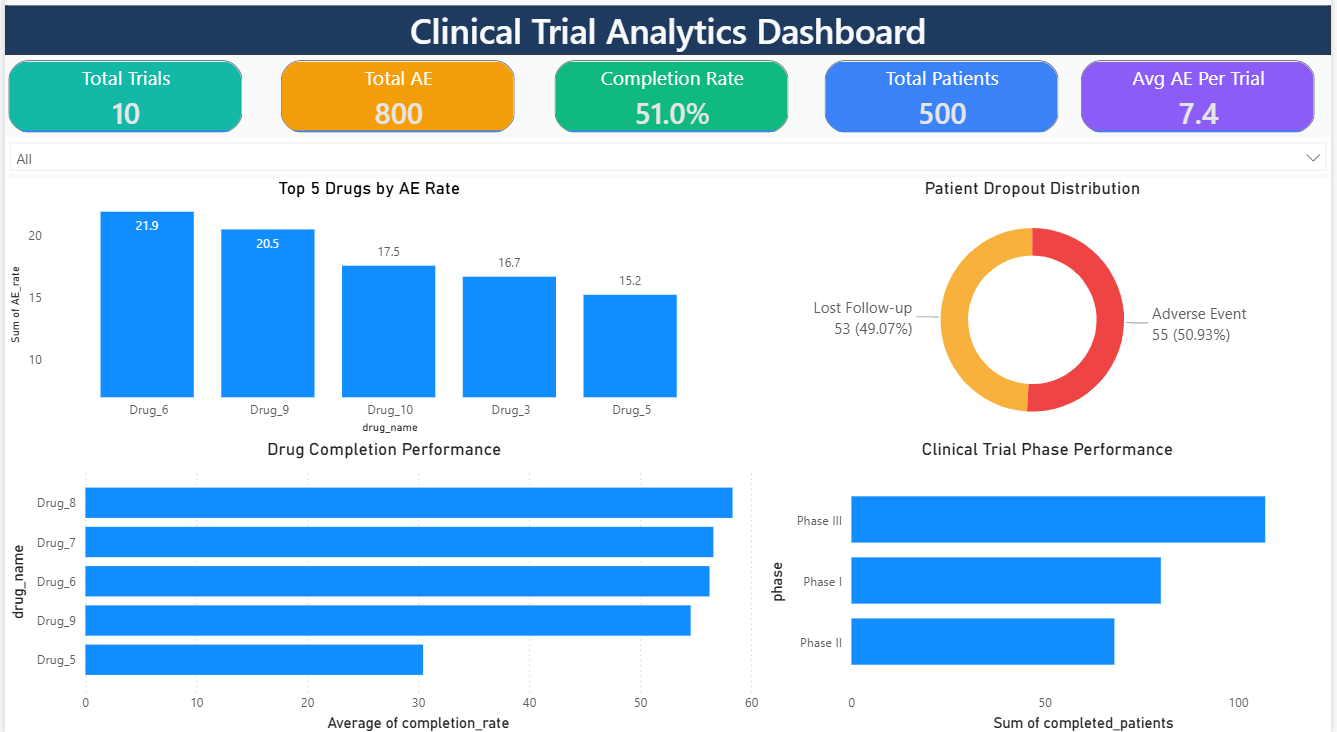

This screenshot's page, from the dashboard's own definition file:
{"tool":"powerbi","page":{"name":"Executive OverView","canvas":[1280,720],"ordinal":0},"visuals":[{"type":"shape","box":[0,10.9,1280,62.7],"z":0},{"type":"cardVisual","fields":{"Data":["best_drug_with_low_safety.Total Trials"]},"box":[0,62.7,235.3,80],"z":1000},{"type":"cardVisual","fields":{"Data":["best_drug_with_low_safety.Total AE"]},"box":[263,62.7,235.3,80],"z":2000},{"type":"cardVisual","fields":{"Data":["best_drug_with_low_safety.Completion Rate"]},"box":[527.2,62.7,235,80],"z":3000},{"type":"cardVisual","fields":{"Data":["best_drug_with_low_safety.Total Patients"]},"box":[787.8,62.7,235,80],"z":4000},{"type":"clusteredColumnChart","title":"Top 5 Drugs by AE Rate","fields":{"Y":["Sum(drug_safety_and_effectiveness.AE_rate)"],"Category":["drug_safety_and_effectiveness.drug_name"]},"box":[0,181,703.4,252.1],"z":5000},{"type":"donutChart","title":"Patient Dropout Distribution","fields":{"Category":["dropout_pattern_analysis.dropout_reason"],"Y":["Sum(dropout_pattern_analysis.dropout_patients)"]},"box":[703.4,181,576.7,256],"z":6000},{"type":"barChart","title":"Drug Completion Performance","fields":{"Y":["Avg(drug_safety_and_effectiveness.completion_rate)"],"Category":["drug_safety_and_effectiveness.drug_name"]},"box":[0,433.1,732.3,287.1],"z":7000},{"type":"barChart","title":"Clinical Trial Phase Performance","fields":{"Category":["clincial_trial_phase_performance.phase"],"Y":["Sum(clincial_trial_phase_performance.completed_patients)"]},"box":[732.3,433.1,547.7,287.1],"z":8000},{"type":"cardVisual","fields":{"Data":["best_drug_with_low_safety.Avg AE Per Trial"]},"box":[1035.1,62.7,235,80],"z":9000},{"type":"slicer","fields":{"Values":["clincial_trial_phase_performance.phase"]},"box":[0,142.4,1280,35],"z":10000}]}

Visuals, with their boxes in screenshot pixels (x1, y1, x2, y2), scaled from the page's 1280x720 canvas onto the 1337x732 screenshot:
shape: BBox(0, 11, 1336, 75)
cardVisual - best_drug_with_low_safety.Total Trials: BBox(0, 64, 246, 145)
cardVisual - best_drug_with_low_safety.Total AE: BBox(275, 64, 520, 145)
cardVisual - best_drug_with_low_safety.Completion Rate: BBox(551, 64, 796, 145)
cardVisual - best_drug_with_low_safety.Total Patients: BBox(823, 64, 1068, 145)
"Top 5 Drugs by AE Rate" clusteredColumnChart: BBox(0, 184, 735, 440)
"Patient Dropout Distribution" donutChart: BBox(735, 184, 1336, 444)
"Drug Completion Performance" barChart: BBox(0, 440, 765, 731)
"Clinical Trial Phase Performance" barChart: BBox(765, 440, 1336, 731)
cardVisual - best_drug_with_low_safety.Avg AE Per Trial: BBox(1081, 64, 1327, 145)
slicer - clincial_trial_phase_performance.phase: BBox(0, 145, 1336, 180)
